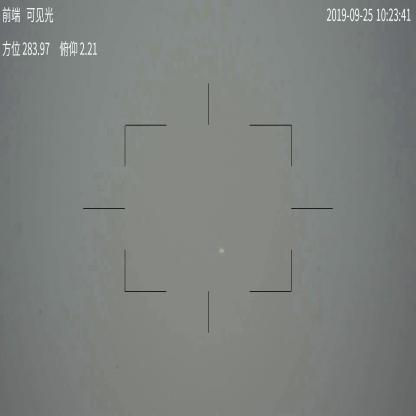uav: (218, 247, 225, 256)
